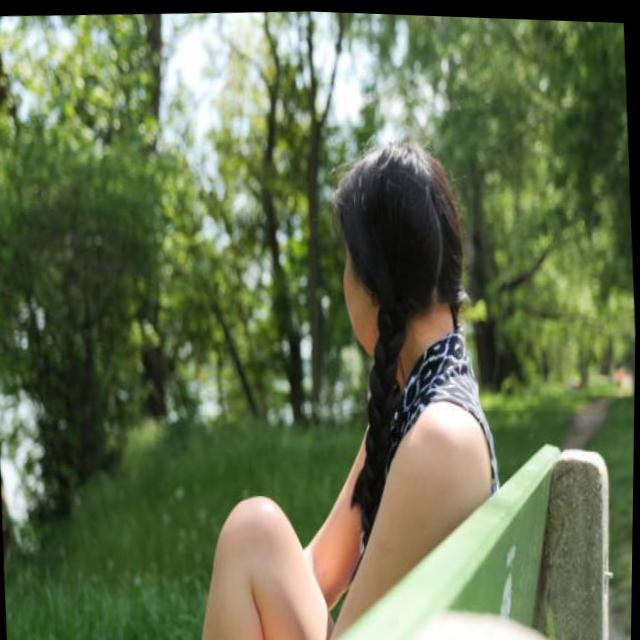no helmet: (339, 139, 468, 361)
